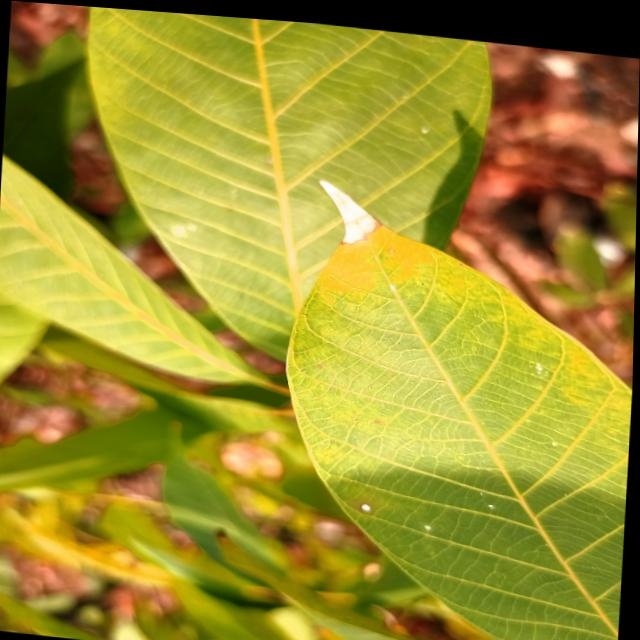Colletotrichum: (362, 497, 374, 506)
Leaf-Blight: (316, 174, 385, 244)
